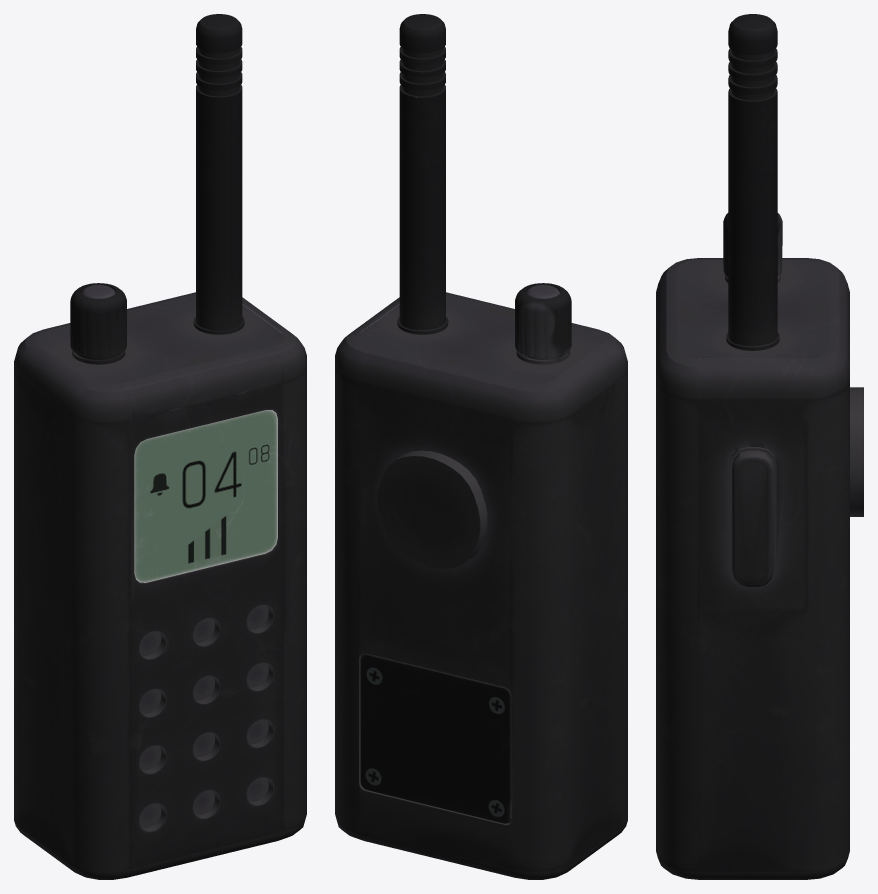
The model's file is radio.glb.
3 views of the same model, side by side, from view 1: azimuth 30°, elevation 25°; view 2: azimuth 150°, elevation 25°; view 3: azimuth 270°, elevation 25° (orthographic). The views are drawn at different scales.
Parts seen in each view (by area): view 1: Radio; view 2: Radio; view 3: Radio.
Boxes of the visible parts, x1=… form: Radio: x1=14, y1=14, x2=306, y2=879; Radio: x1=335, y1=14, x2=627, y2=879; Radio: x1=656, y1=14, x2=863, y2=879.
Bounding box in the file's own units: 0.2942 × 0.9156 × 0.2065.
1 material, 1 textured.
